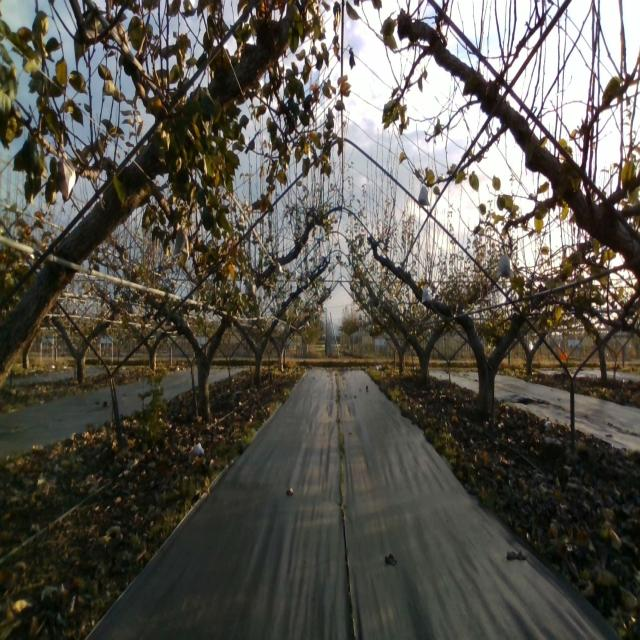pearbags: (55, 143, 77, 200), (173, 227, 190, 260), (496, 252, 514, 280), (418, 186, 430, 207), (421, 284, 432, 304), (245, 278, 256, 297)
